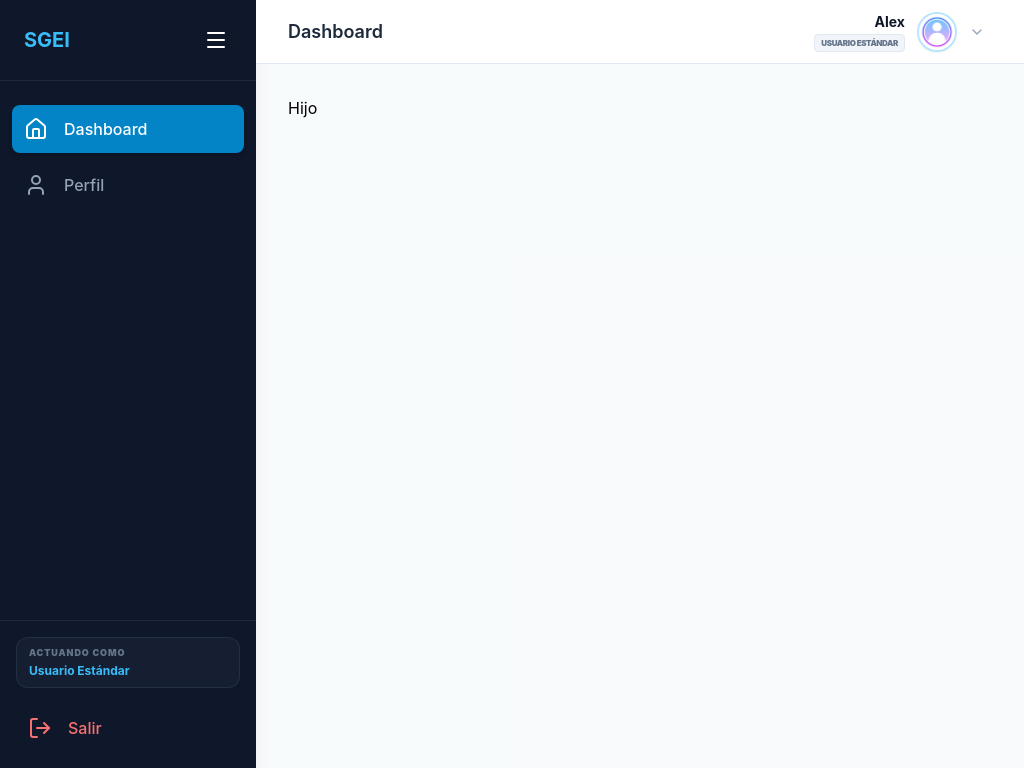
Test: Layout Component › debe mostrar el menú de usuario al hacer clic en el perfil
The image size is (1024, 768).
// Buscar el botón que contiene el nombre del usuario
Click the button "Alex Usuario Estándar" at (900, 32), box [807,4,992,58]
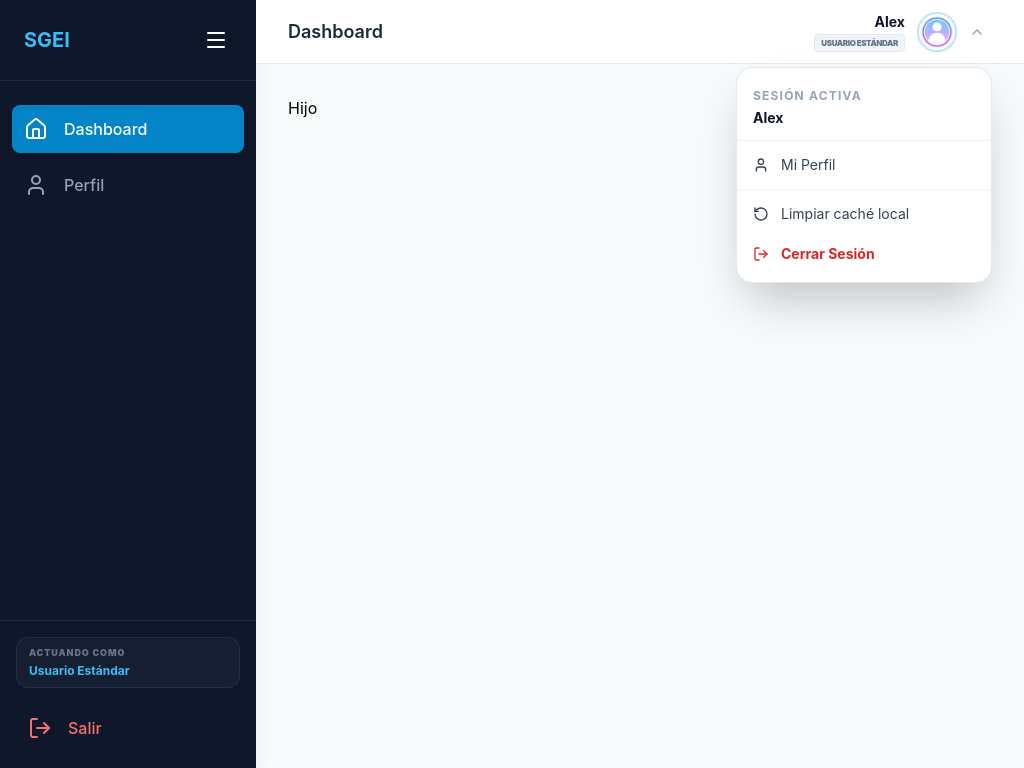
Result: the link "Mi Perfil" is shown at [753,156,836,172]
Result: the button "Cerrar Sesión" is shown at [737,234,991,274]
